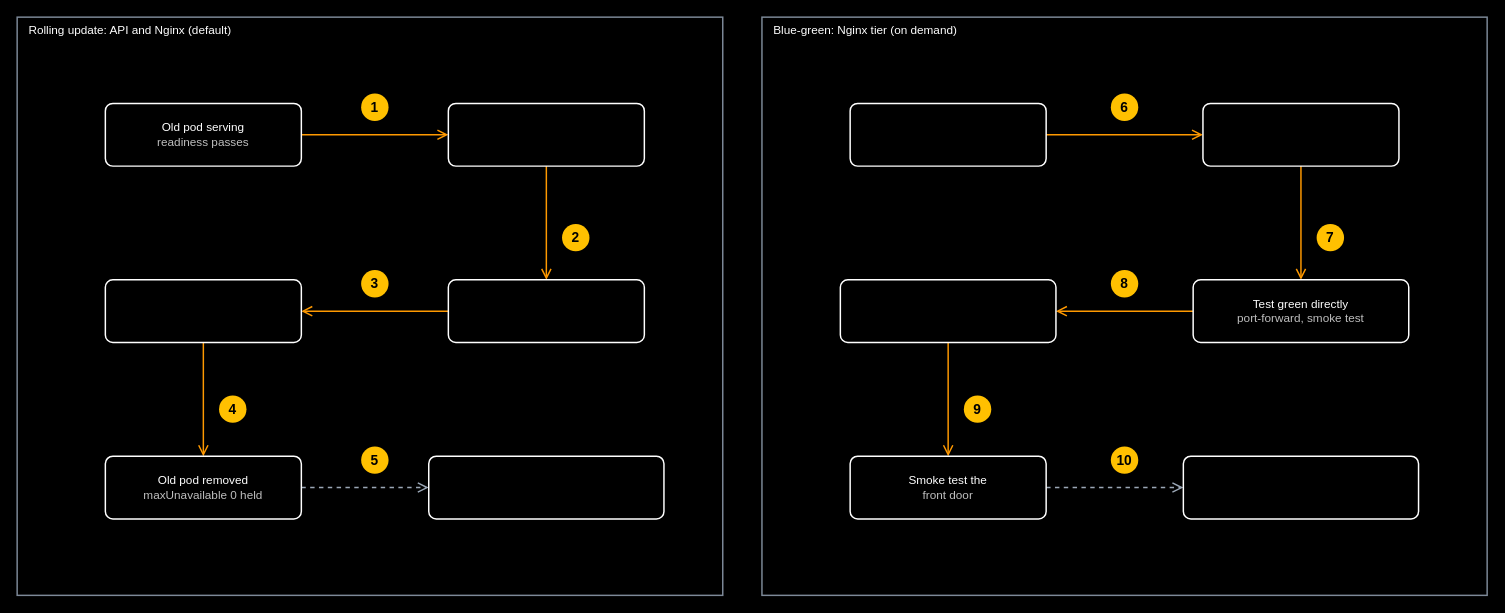
The diagram is 1505 pixels wide and 613 high, and some of its shapes have lost their labels. Here are the shapes that lost their labels. From the top down, the centre of each, then its label:
the point at 546,134: maxSurge 1 new pod starts
the point at 947,134: Blue: client all traffic
the point at 1300,134: Green: client-green new image, no traffic
the point at 203,311: preStop sleep 5 old pod drains
the point at 546,311: New pod ready Service adds it
the point at 947,311: Patch Service selector app=client-green
the point at 546,487: Proof: 116 of 116 requests answered 200
the point at 1300,487: Fails: back to blue Blue stays up for rollback
